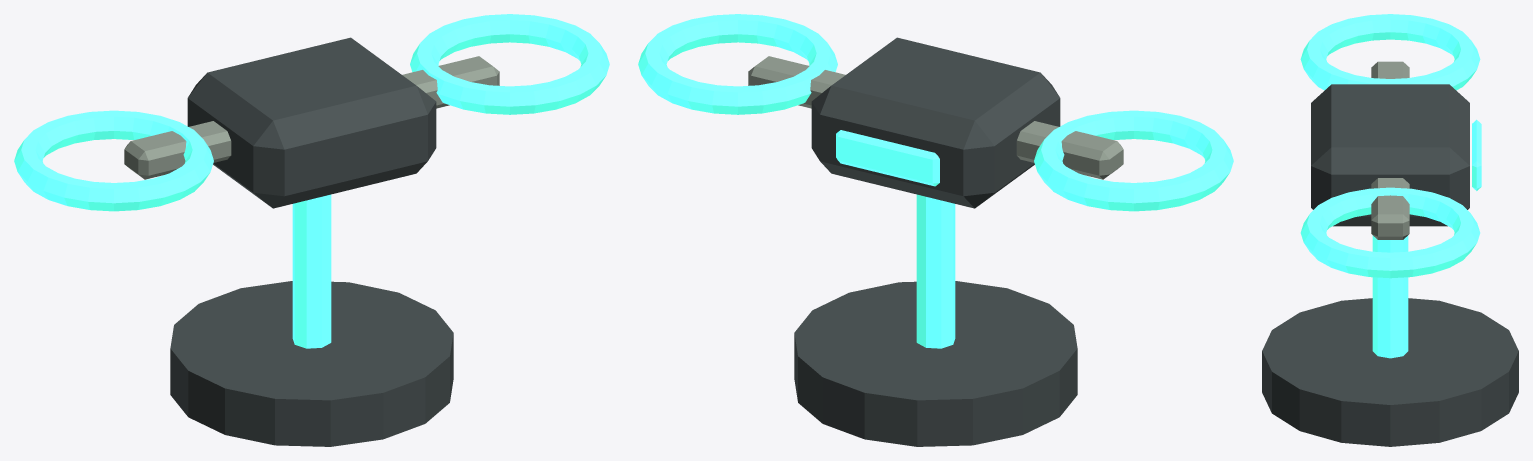
File: acc_holodrone.glb
The picture shows the model from 3 angles, left to right: view 1: azimuth 30°, elevation 25°; view 2: azimuth 150°, elevation 25°; view 3: azimuth 270°, elevation 25°; orthographic projection. The views are drawn at different scales.
Visible parts, largest first — view 1: acc_holodrone_RunningGear.008, acc_holodrone_Neon.003, acc_holodrone_ArmorEdges.008; view 2: acc_holodrone_RunningGear.008, acc_holodrone_Neon.003, acc_holodrone_ArmorEdges.008; view 3: acc_holodrone_RunningGear.008, acc_holodrone_Neon.003, acc_holodrone_ArmorEdges.008.
Boxes of the visible parts, left/top/right/bottom form: acc_holodrone_RunningGear.008: left=170, top=37, right=453, bottom=446; acc_holodrone_Neon.003: left=14, top=14, right=609, bottom=348; acc_holodrone_ArmorEdges.008: left=124, top=56, right=499, bottom=179; acc_holodrone_RunningGear.008: left=794, top=37, right=1077, bottom=446; acc_holodrone_Neon.003: left=638, top=14, right=1233, bottom=348; acc_holodrone_ArmorEdges.008: left=748, top=56, right=1123, bottom=179; acc_holodrone_RunningGear.008: left=1262, top=84, right=1518, bottom=446; acc_holodrone_Neon.003: left=1300, top=14, right=1481, bottom=358; acc_holodrone_ArmorEdges.008: left=1371, top=61, right=1409, bottom=239.
Bounding box in the file's own units: 1.15 × 0.595 × 0.5.
